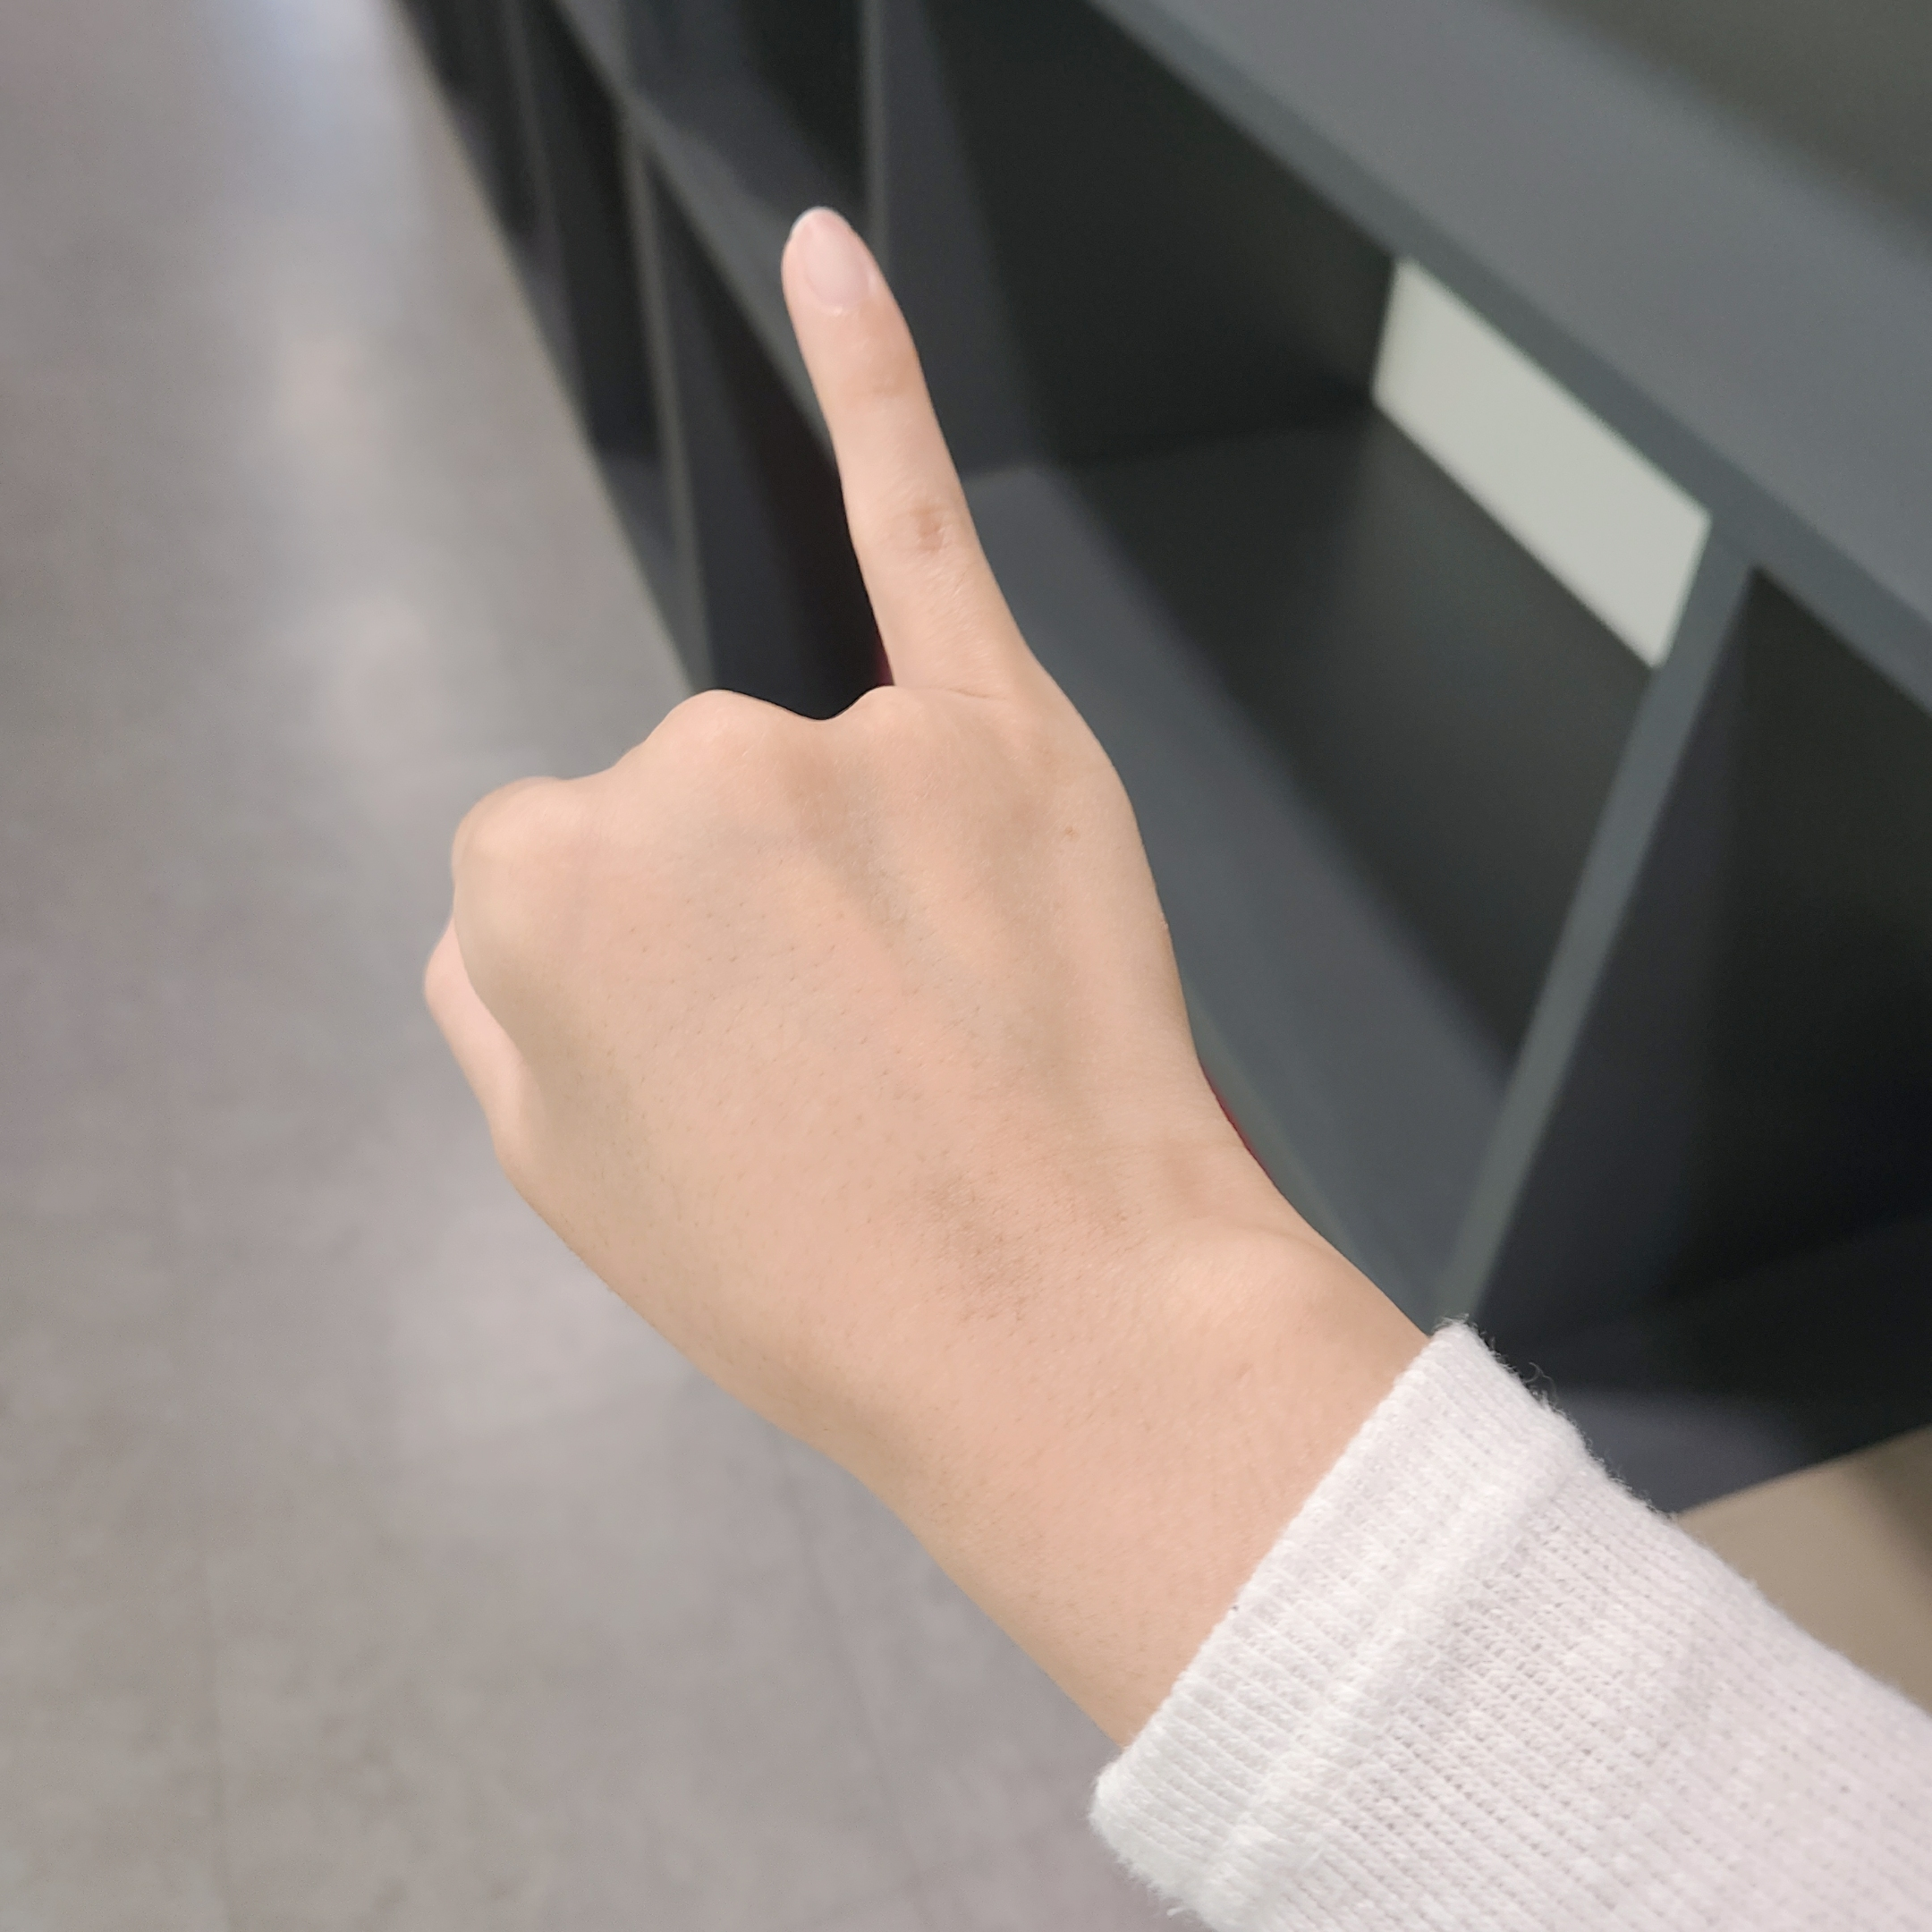fine: (416, 207, 1210, 1438)
